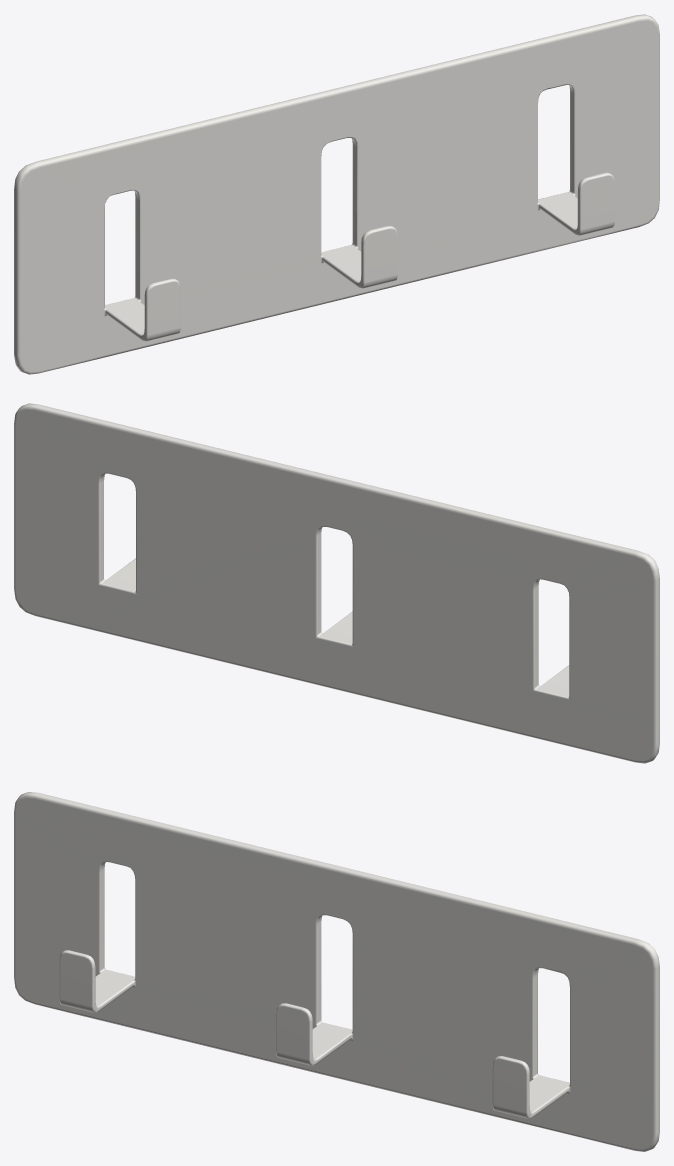
Rendered from galtbox_wieszak_z_3_hakami_10563711.glb.
3 renders of one model, top to bottom at view 1: azimuth 30°, elevation 25°; view 2: azimuth 150°, elevation 25°; view 3: azimuth 330°, elevation 25°, orthographic.
Visible parts, largest first — view 1: galtbox_wieszak_z_3_hakami_10563711; view 2: galtbox_wieszak_z_3_hakami_10563711; view 3: galtbox_wieszak_z_3_hakami_10563711.
Part boxes in pixels (box(x1,y1,x2,y2)): galtbox_wieszak_z_3_hakami_10563711: box(14, 14, 659, 374); galtbox_wieszak_z_3_hakami_10563711: box(14, 403, 659, 763); galtbox_wieszak_z_3_hakami_10563711: box(14, 792, 659, 1151).
Bounding box in the file's own units: 0.1599 × 0.05 × 0.02.
1 material, 1 textured.
